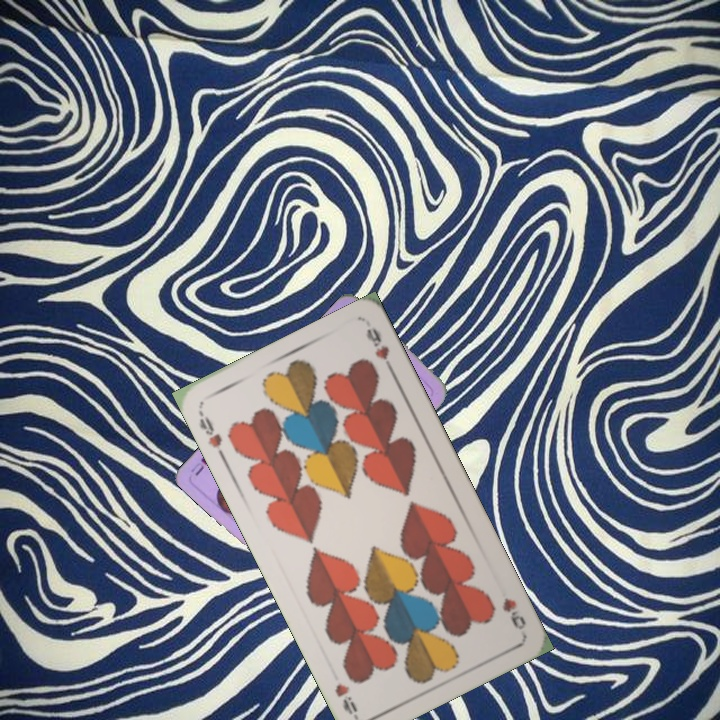H9: (194, 406, 227, 461), (498, 594, 529, 633)
